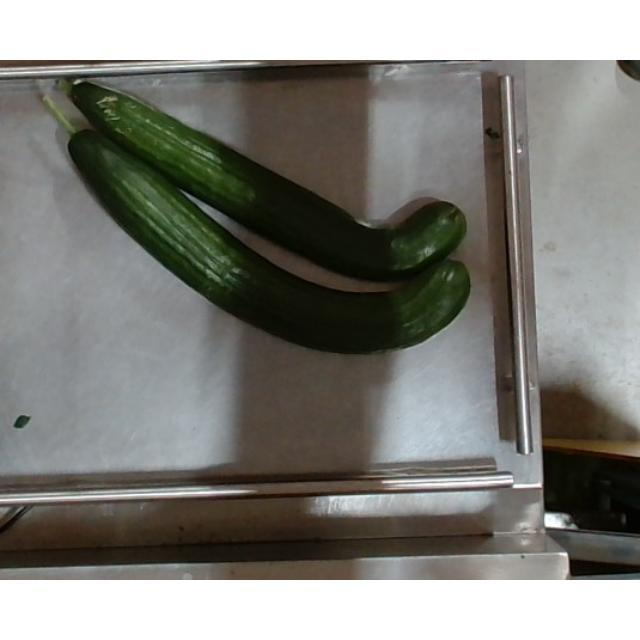cucumber: (41, 97, 472, 355), (57, 80, 470, 288)
